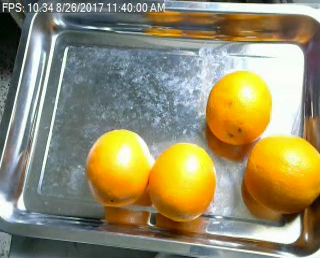Orange: (244, 136, 319, 213), (148, 141, 218, 221), (85, 127, 150, 208), (207, 71, 273, 146)
